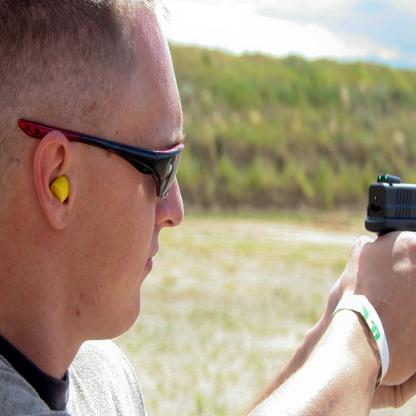gun: (356, 164, 416, 416)
